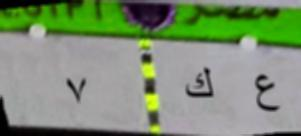7: (64, 72, 92, 107)
ain: (251, 69, 282, 121)
kaaf: (180, 64, 216, 104)
